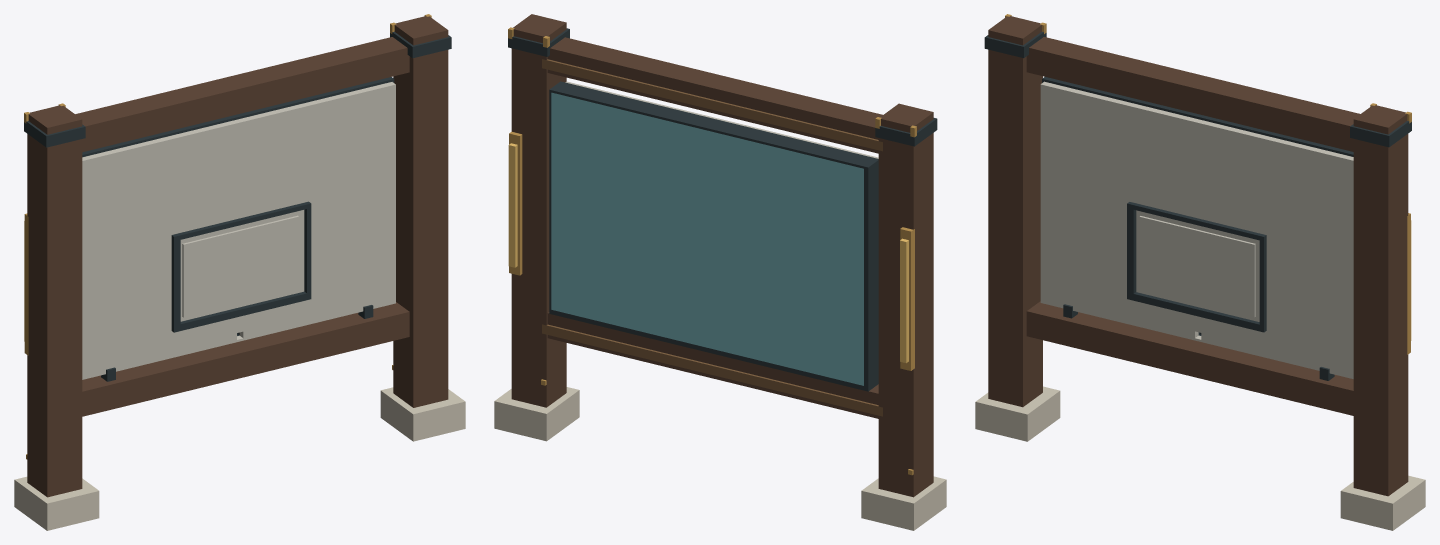
Rendered from LIFE-140.glb.
3 views of the same model, side by side, from view 1: azimuth 30°, elevation 25°; view 2: azimuth 150°, elevation 25°; view 3: azimuth 330°, elevation 25° (orthographic).
Visible parts, largest first — view 1: 公共公告屏/告示板; view 2: 公共公告屏/告示板; view 3: 公共公告屏/告示板.
Boxes of the visible parts, x1=… form: 公共公告屏/告示板: x1=14, y1=14, x2=465, y2=530; 公共公告屏/告示板: x1=494, y1=14, x2=946, y2=530; 公共公告屏/告示板: x1=975, y1=14, x2=1425, y2=530.
Bounding box in the file's own units: 1.92 × 1.74 × 0.26.
Materials: 11 (11 with a texture image).
